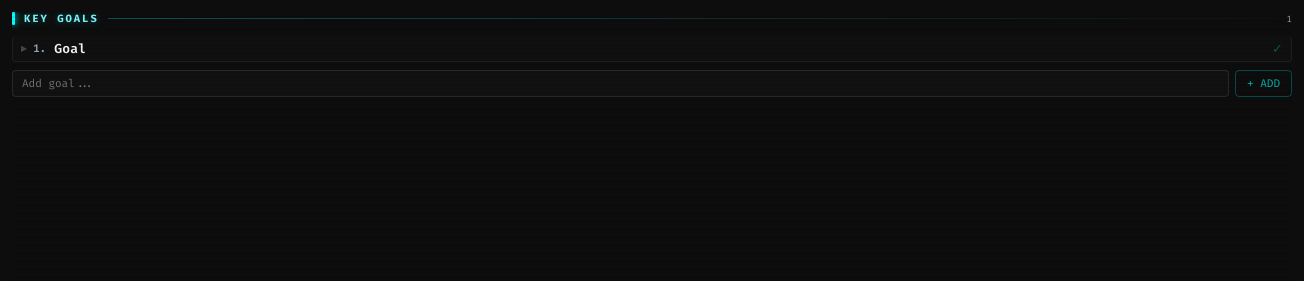
Scenario: double-clicking the description read view opens the editor
The image size is (1304, 281).
Click the button titled "Toggle description" at (24, 48), box [21,44,27,52]
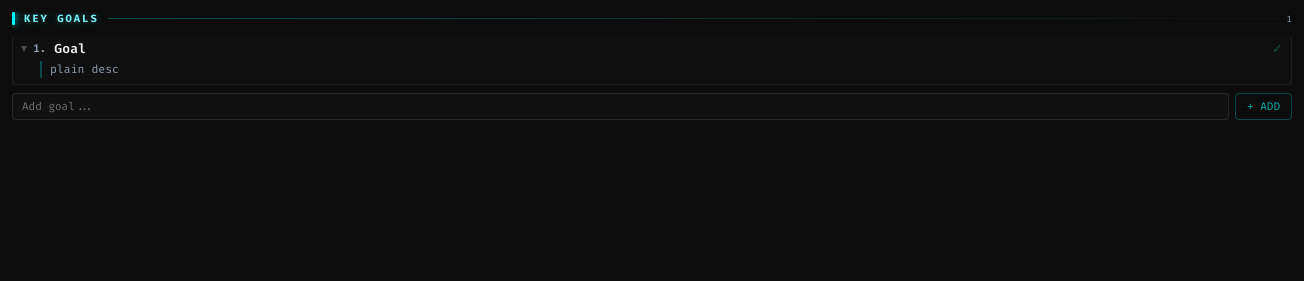
Double-click the text "plain desc" at (84, 70), box [50,62,119,77]
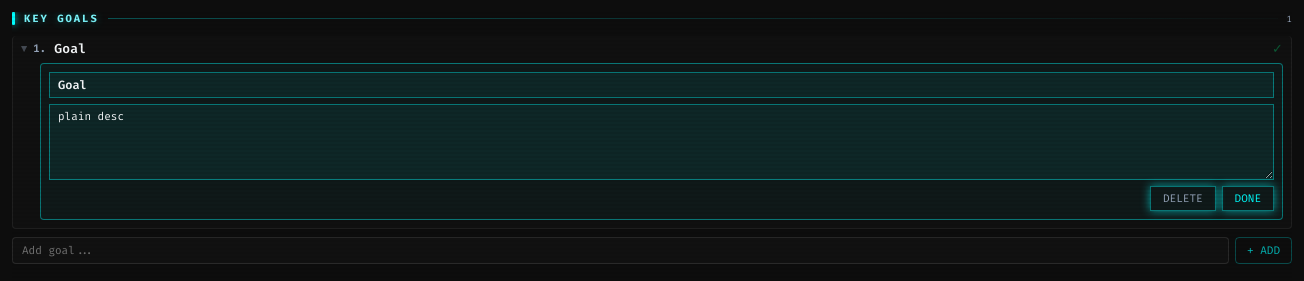
Expected: the text box with placeholder "Description — ⌘B bold · “- ” bullet · enter for new line" is shown, [49,104,1274,180]
